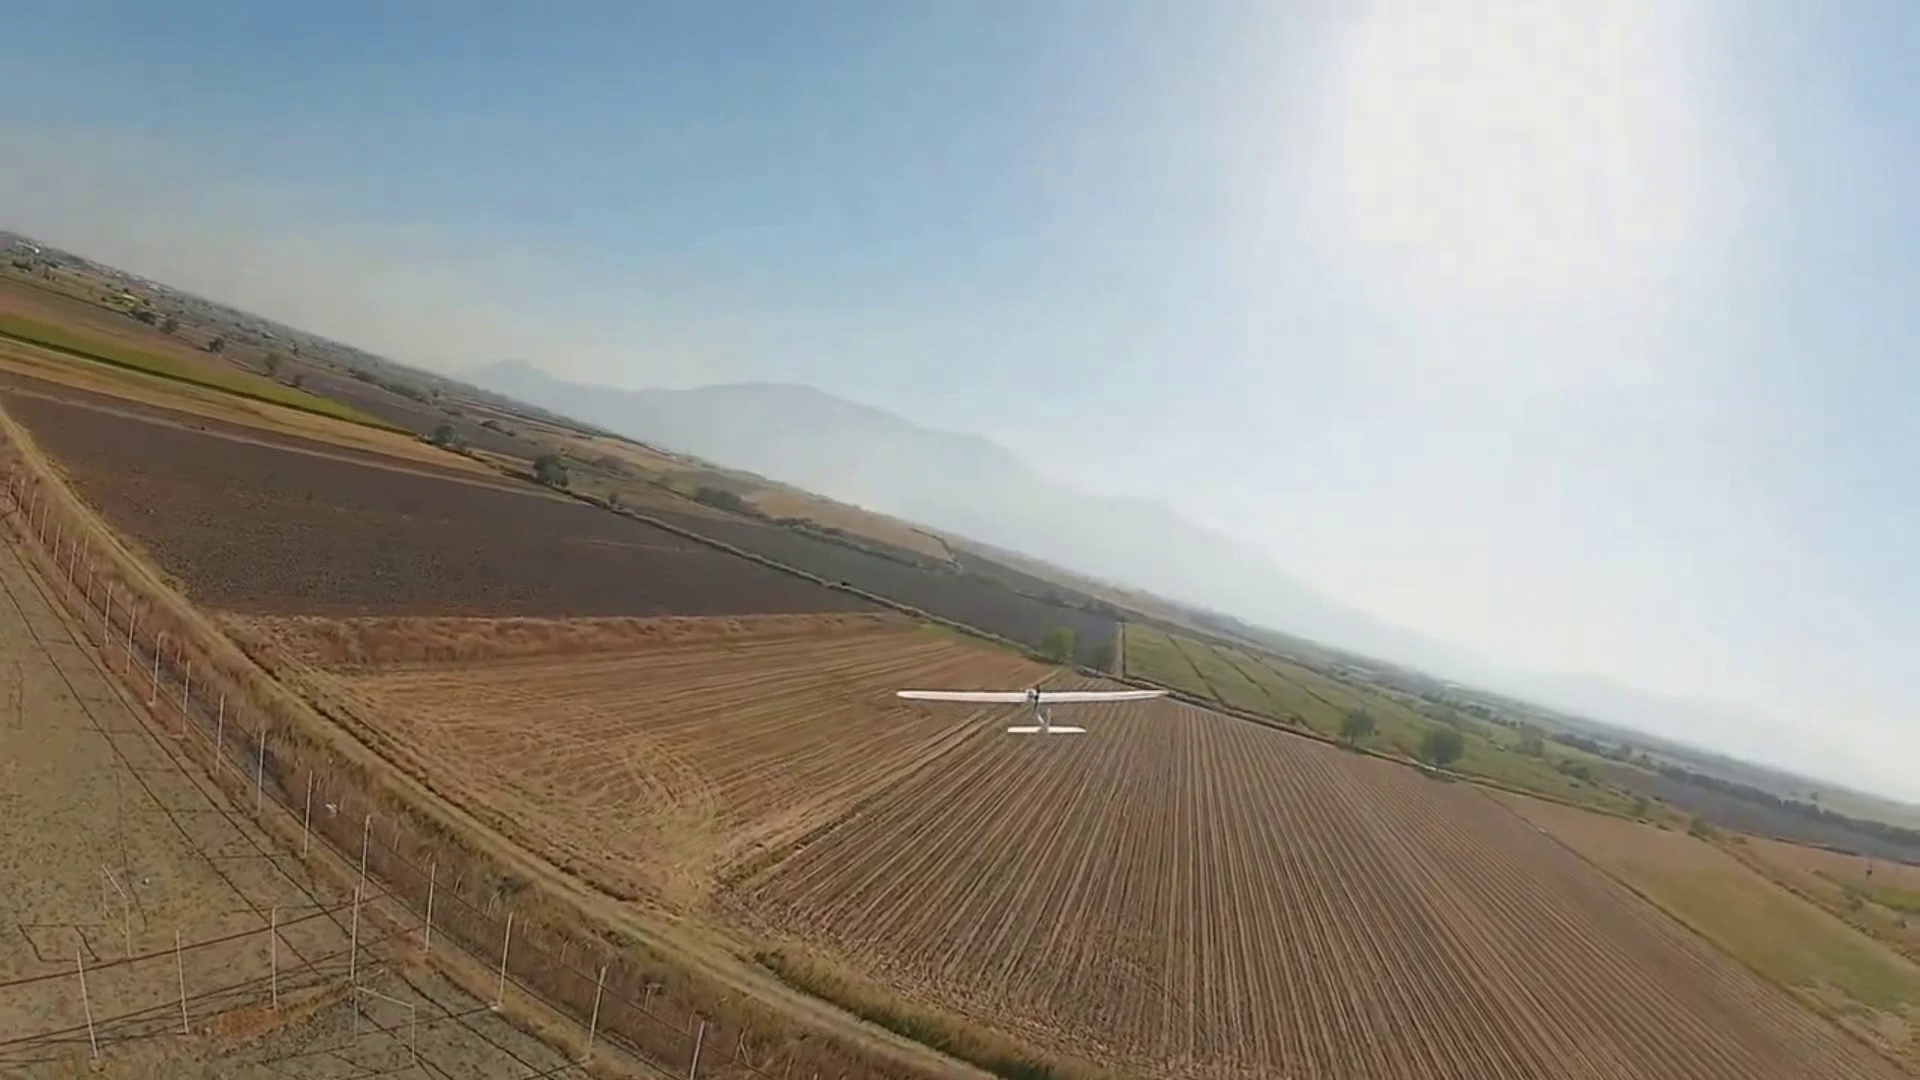airplane: (5, 229, 1909, 870)
